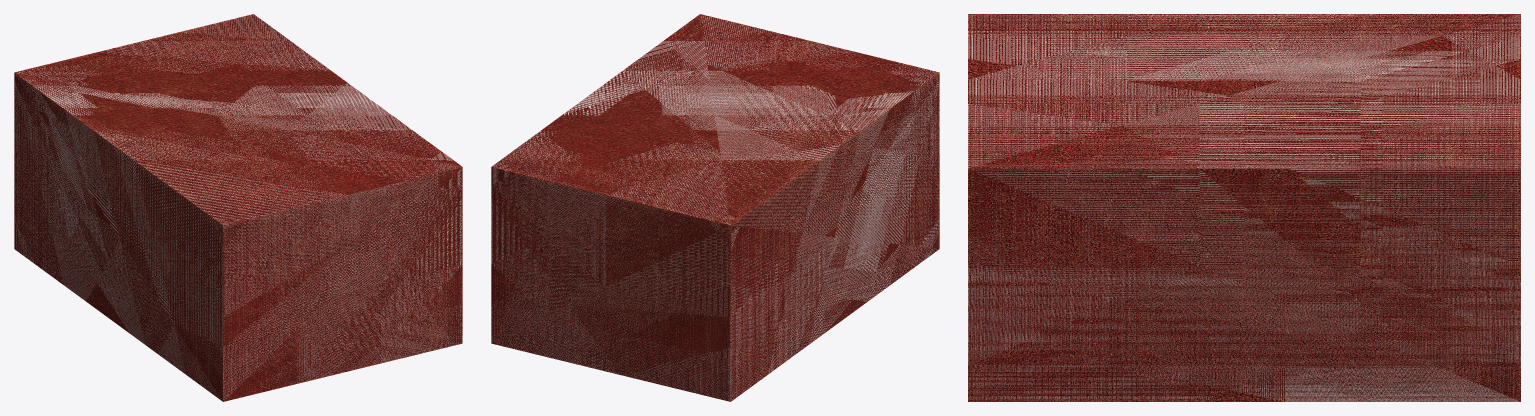
Rendered from box_wood.dae.
The picture shows the model from 3 angles, left to right: view 1: azimuth 30°, elevation 25°; view 2: azimuth 150°, elevation 25°; view 3: azimuth 270°, elevation 25°; orthographic projection. The views are drawn at different scales.
Visible parts, largest first — view 1: SketchUp (×3); view 2: SketchUp (×3); view 3: SketchUp (×2).
Part boxes in pixels (x1,y1,x2,y2): SketchUp (×3): [14, 14, 462, 401]; SketchUp (×3): [491, 14, 939, 401]; SketchUp (×2): [968, 14, 1520, 401].
Bounding box in the file's own units: 0.1983 × 0.2995 × 0.1396.
6 materials, 5 textured.
